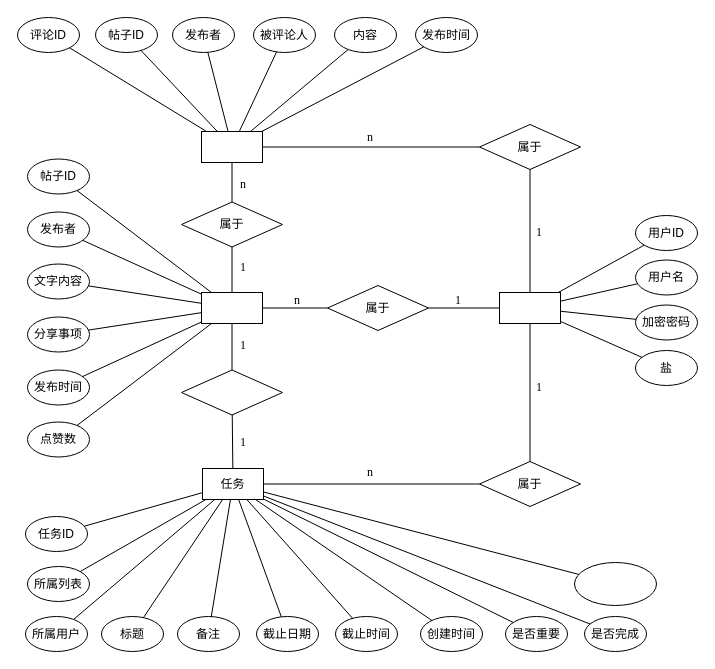
Some shapes in this 715 by 669 pixel diagram are drawn without their labels. Each missing label, with the centre of its shape:
"帖子" goes at (x=231, y=308).
"拥有" goes at (x=231, y=392).
"是否被分享过" goes at (x=615, y=584).
"用户" goes at (x=529, y=308).
"评论" goes at (x=231, y=146).
